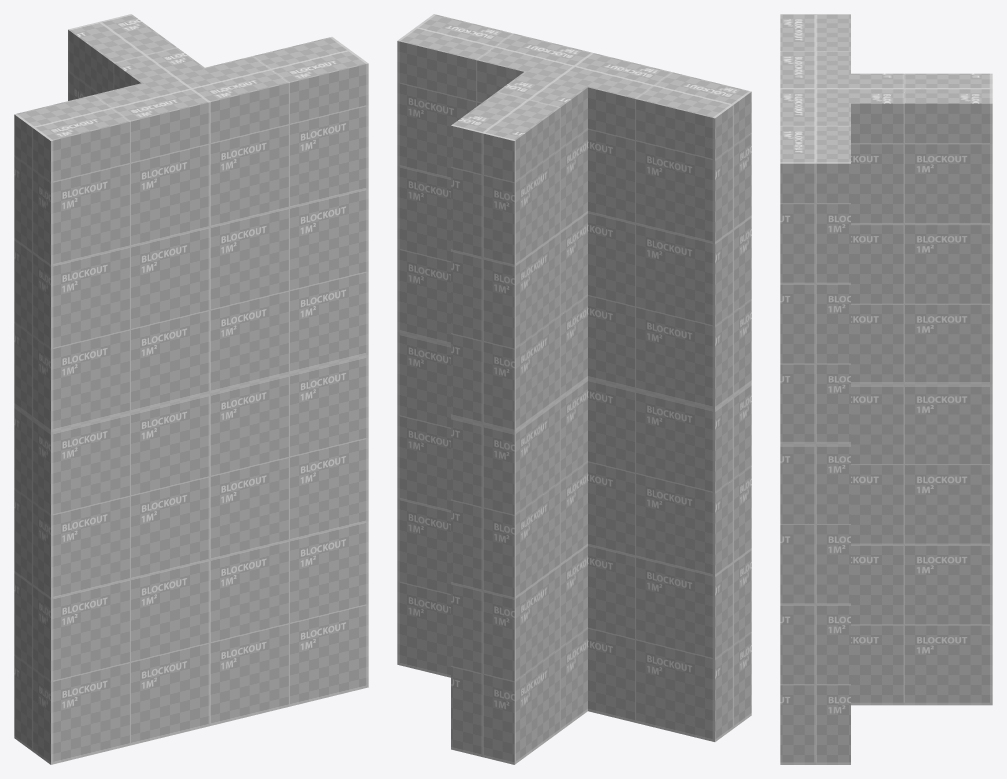
File: BlockoutThickJunctionThreeWay.fbx
3 views of the same model, side by side, from view 1: azimuth 30°, elevation 25°; view 2: azimuth 150°, elevation 25°; view 3: azimuth 270°, elevation 25° (orthographic). The views are drawn at different scales.
Parts seen in each view (by area): view 1: BlockoutThickJunctionThreeWay; view 2: BlockoutThickJunctionThreeWay; view 3: BlockoutThickJunctionThreeWay.
Part boxes in pixels (box(x1,y1,x2,y2)): BlockoutThickJunctionThreeWay: box(14, 14, 368, 764); BlockoutThickJunctionThreeWay: box(397, 14, 751, 764); BlockoutThickJunctionThreeWay: box(780, 14, 992, 764).
Bounding box in the file's own units: 400 × 750 × 240.
